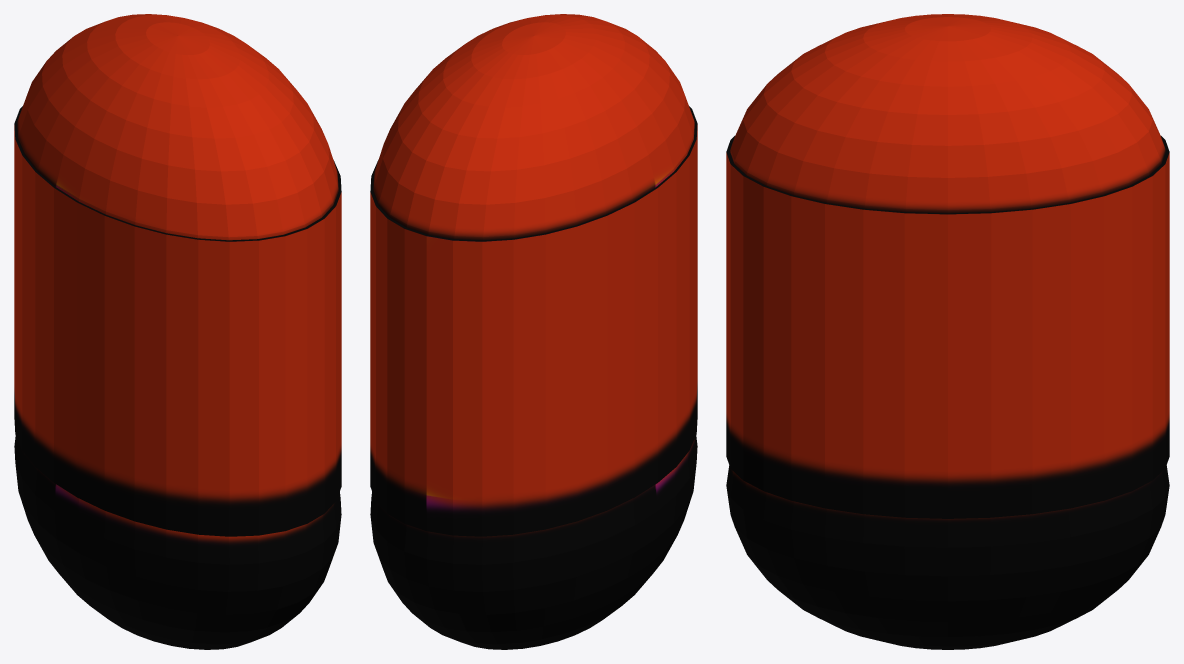
File: Torso_Bulls.obj
3 views of the same model, side by side, from view 1: azimuth 30°, elevation 25°; view 2: azimuth 150°, elevation 25°; view 3: azimuth 270°, elevation 25° (orthographic). The views are drawn at different scales.
Visible parts, largest first — view 1: Torso_Bulls; view 2: Torso_Bulls; view 3: Torso_Bulls.
Part boxes in pixels (box(x1,y1,x2,y2)): Torso_Bulls: box(14, 14, 341, 649); Torso_Bulls: box(370, 14, 697, 649); Torso_Bulls: box(726, 14, 1169, 649).
Bounding box in the file's own units: 1.88 × 4.3 × 2.82.
1 material, 1 textured.
